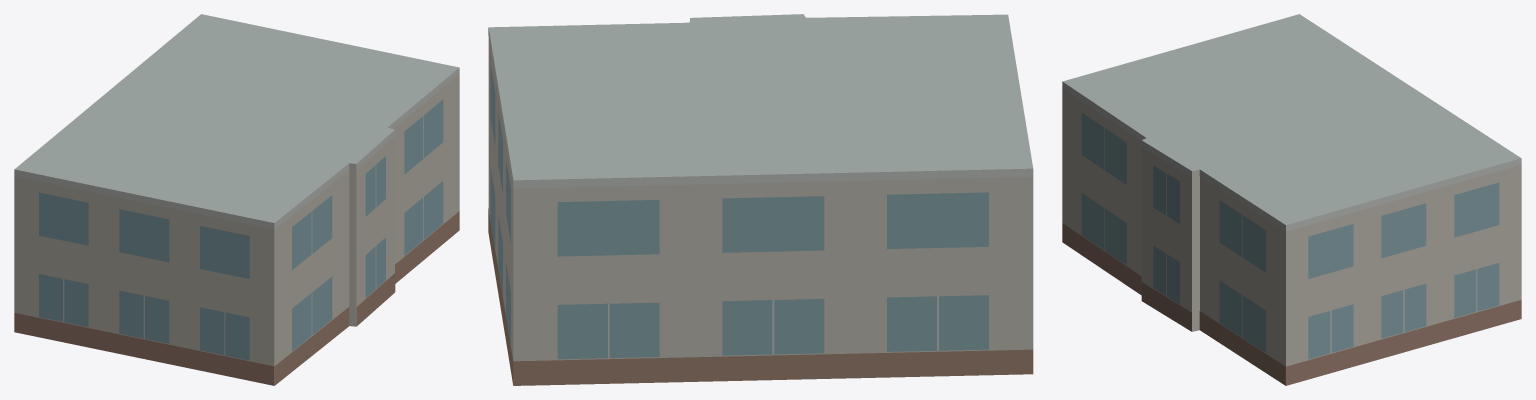
The model's file is survey-upis-32624870.glb.
The picture shows the model from 3 angles, left to right: view 1: azimuth 30°, elevation 25°; view 2: azimuth 150°, elevation 25°; view 3: azimuth 270°, elevation 25°; orthographic projection. The views are drawn at different scales.
Visible parts, largest first — view 1: survey-upis-32624870.tmp; view 2: survey-upis-32624870.tmp; view 3: survey-upis-32624870.tmp.
Part boxes in pixels (x1=…): survey-upis-32624870.tmp: x1=14, y1=14, x2=459, y2=385; survey-upis-32624870.tmp: x1=488, y1=14, x2=1033, y2=385; survey-upis-32624870.tmp: x1=1062, y1=14, x2=1521, y2=385.
Bounding box in the file's own units: 17.2 × 6.1 × 15.8.
